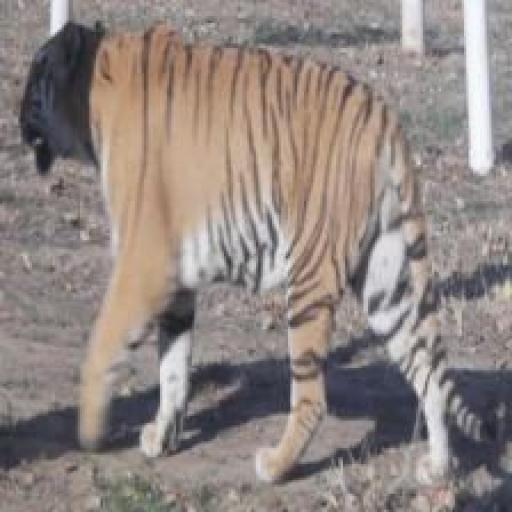Tiger: (7, 20, 484, 479)
